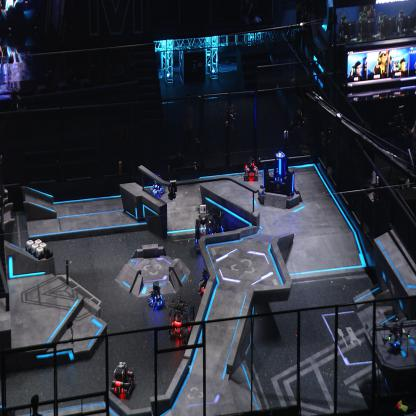car: (167, 294, 195, 340), (109, 359, 136, 397), (194, 210, 213, 254), (206, 210, 226, 242), (198, 267, 217, 298), (147, 280, 164, 310), (149, 175, 166, 198), (244, 157, 258, 180)
